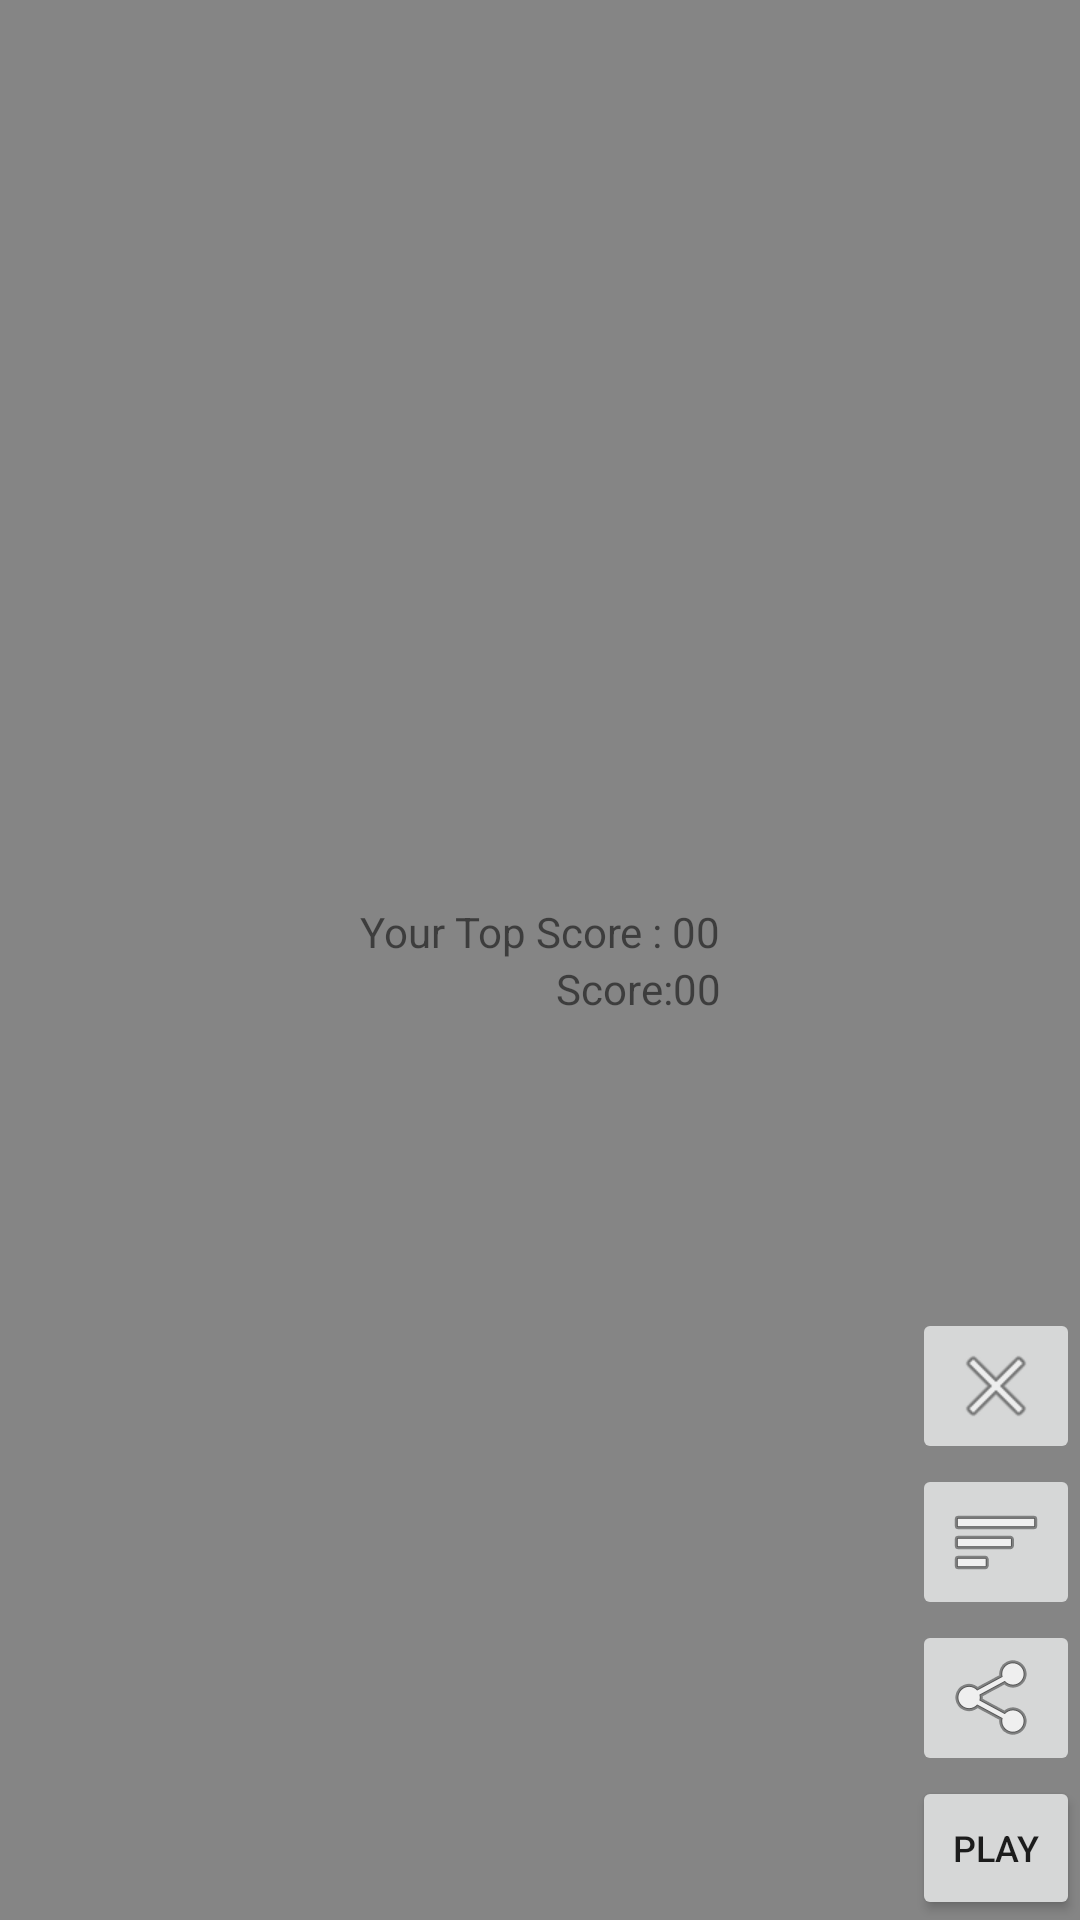

Screen size 1080 x 1920. Icon name, then its box in pixels as {"left": x1, "top": y1, "right": x2, "bottom": y2}:
close clear cancel: {"left": 924, "top": 1326, "right": 1068, "bottom": 1446}
share: {"left": 924, "top": 1638, "right": 1068, "bottom": 1758}
sort by size: {"left": 924, "top": 1482, "right": 1068, "bottom": 1602}
